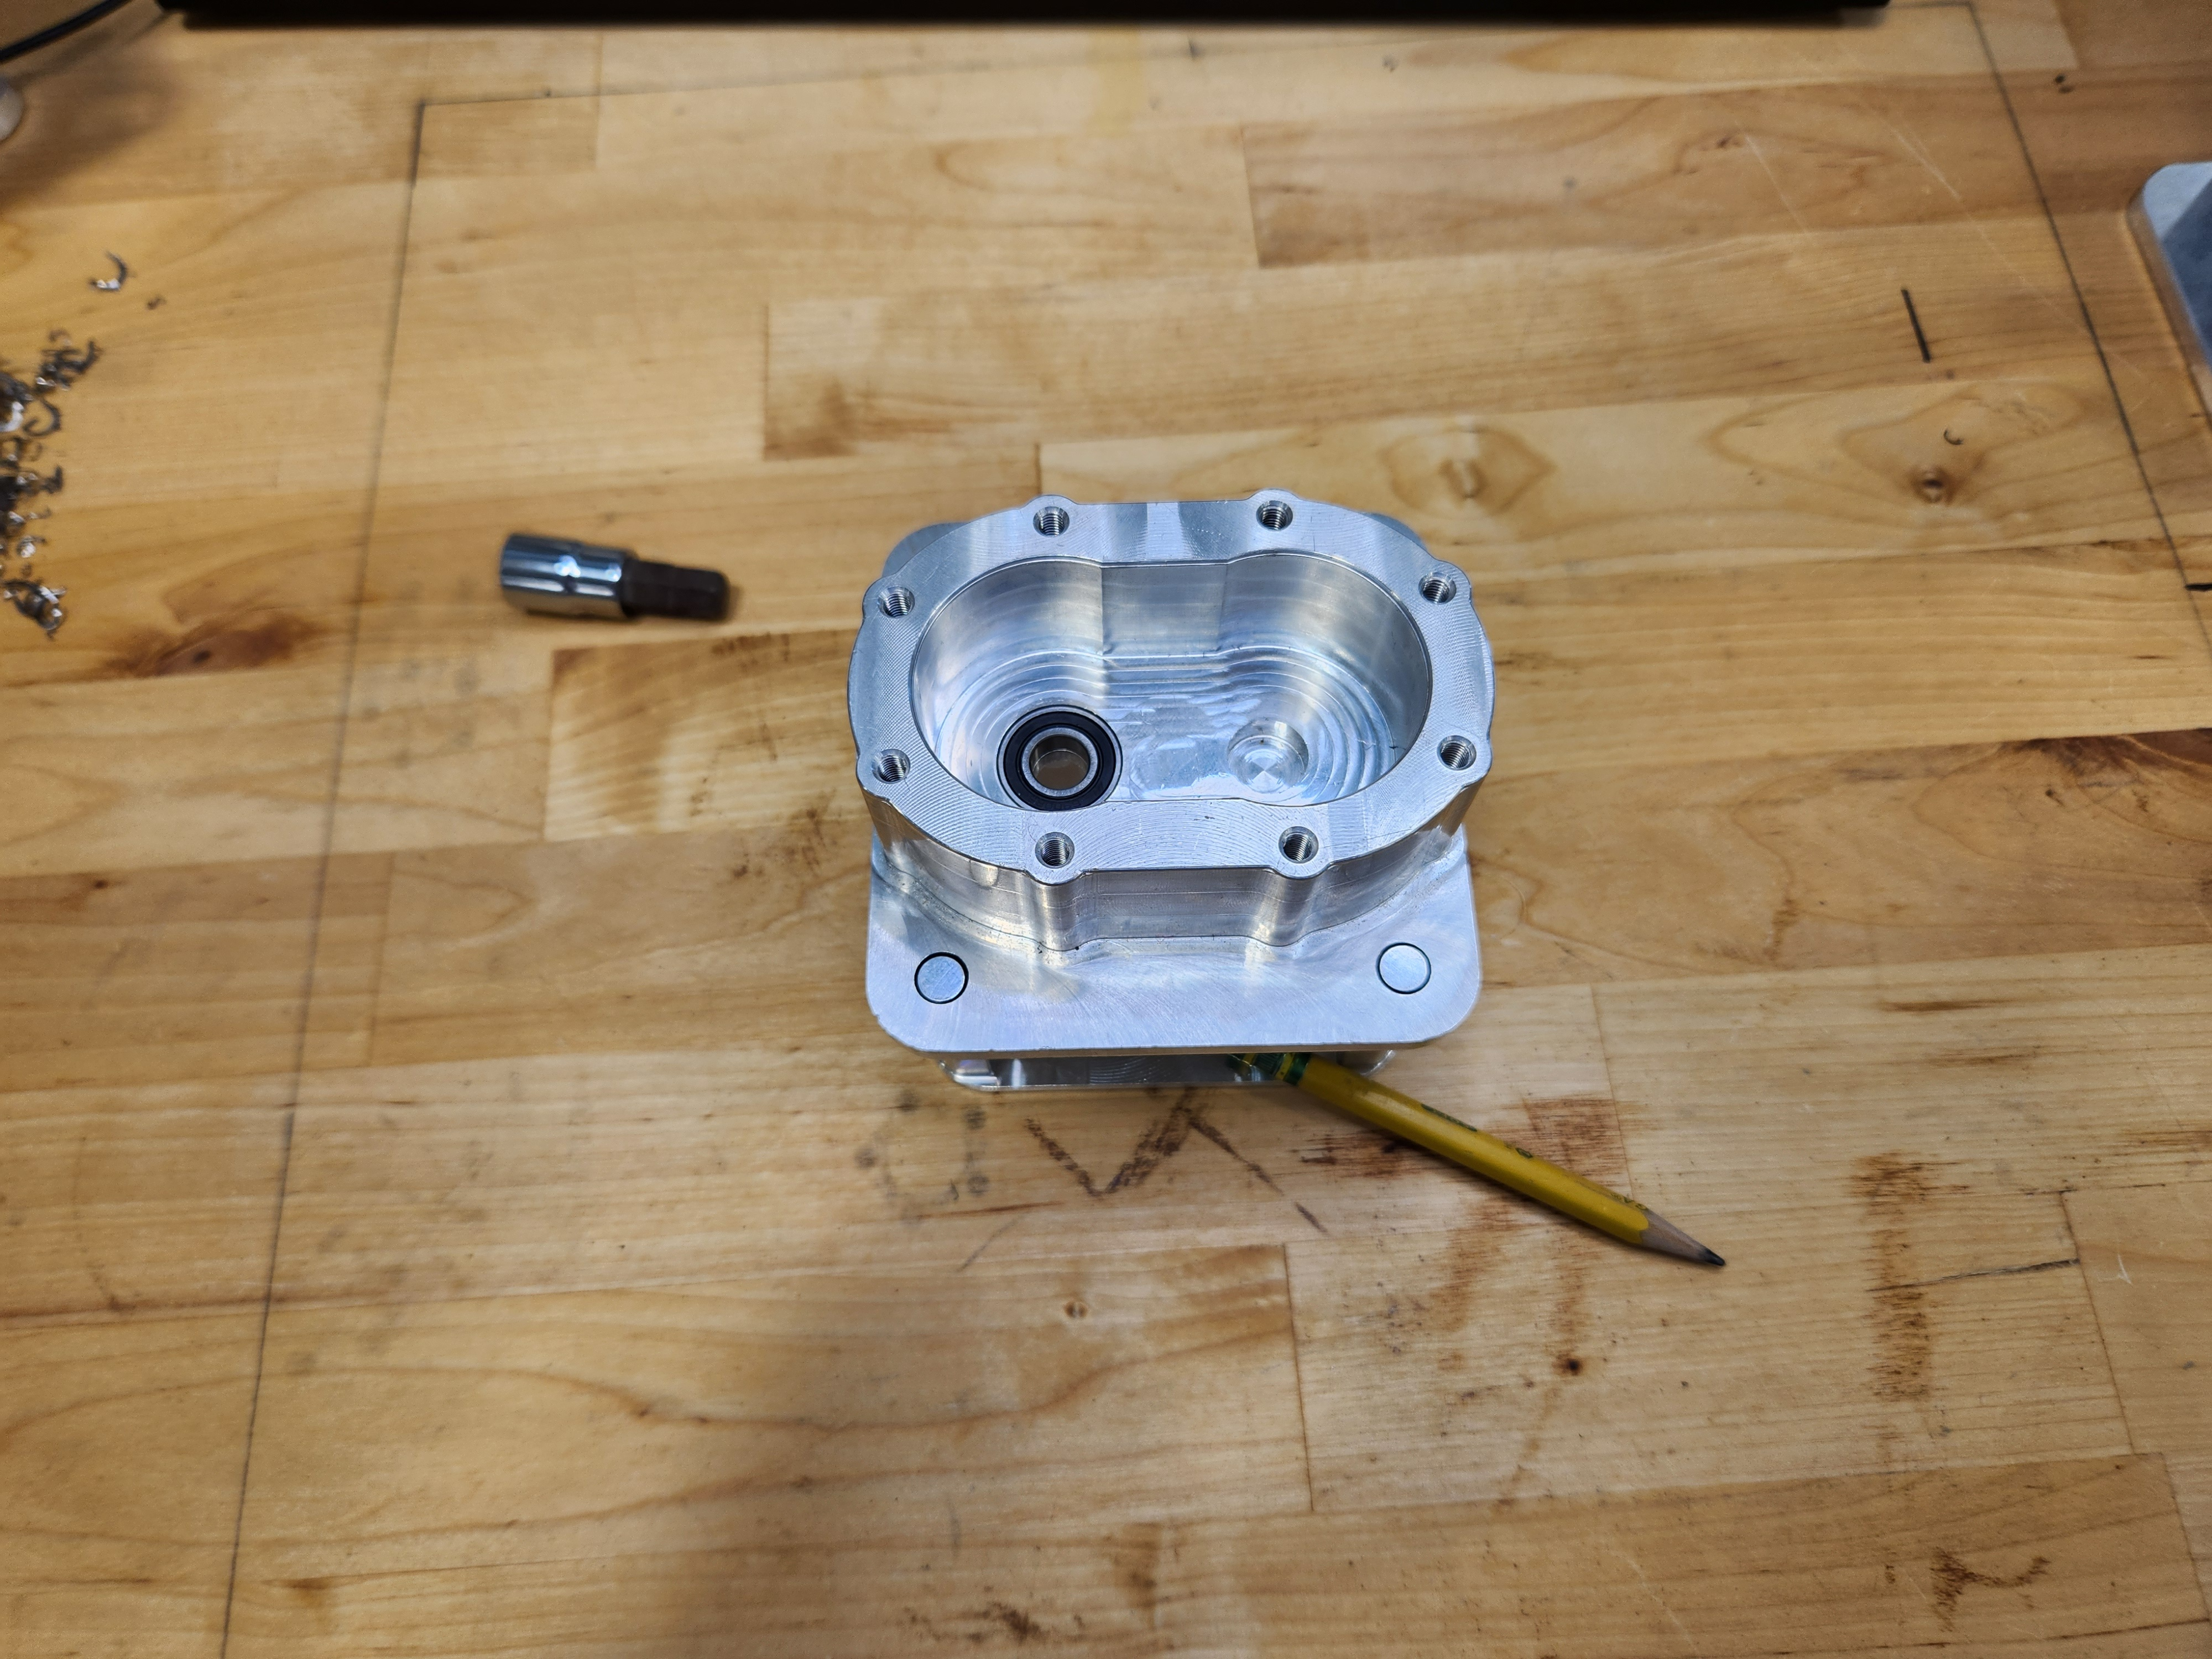Tool Bit: (486, 521, 744, 641)
pencil: (1212, 1033, 1737, 1276)
